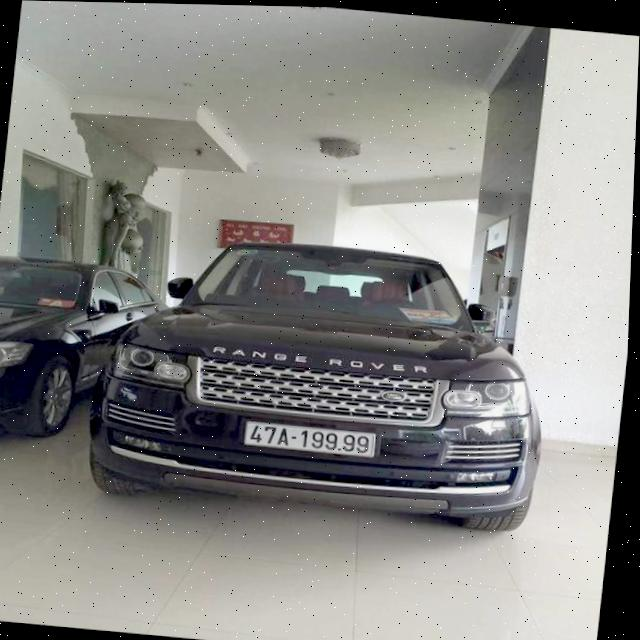car: (74, 219, 566, 546), (0, 253, 148, 464)
plate: (237, 412, 385, 463)
